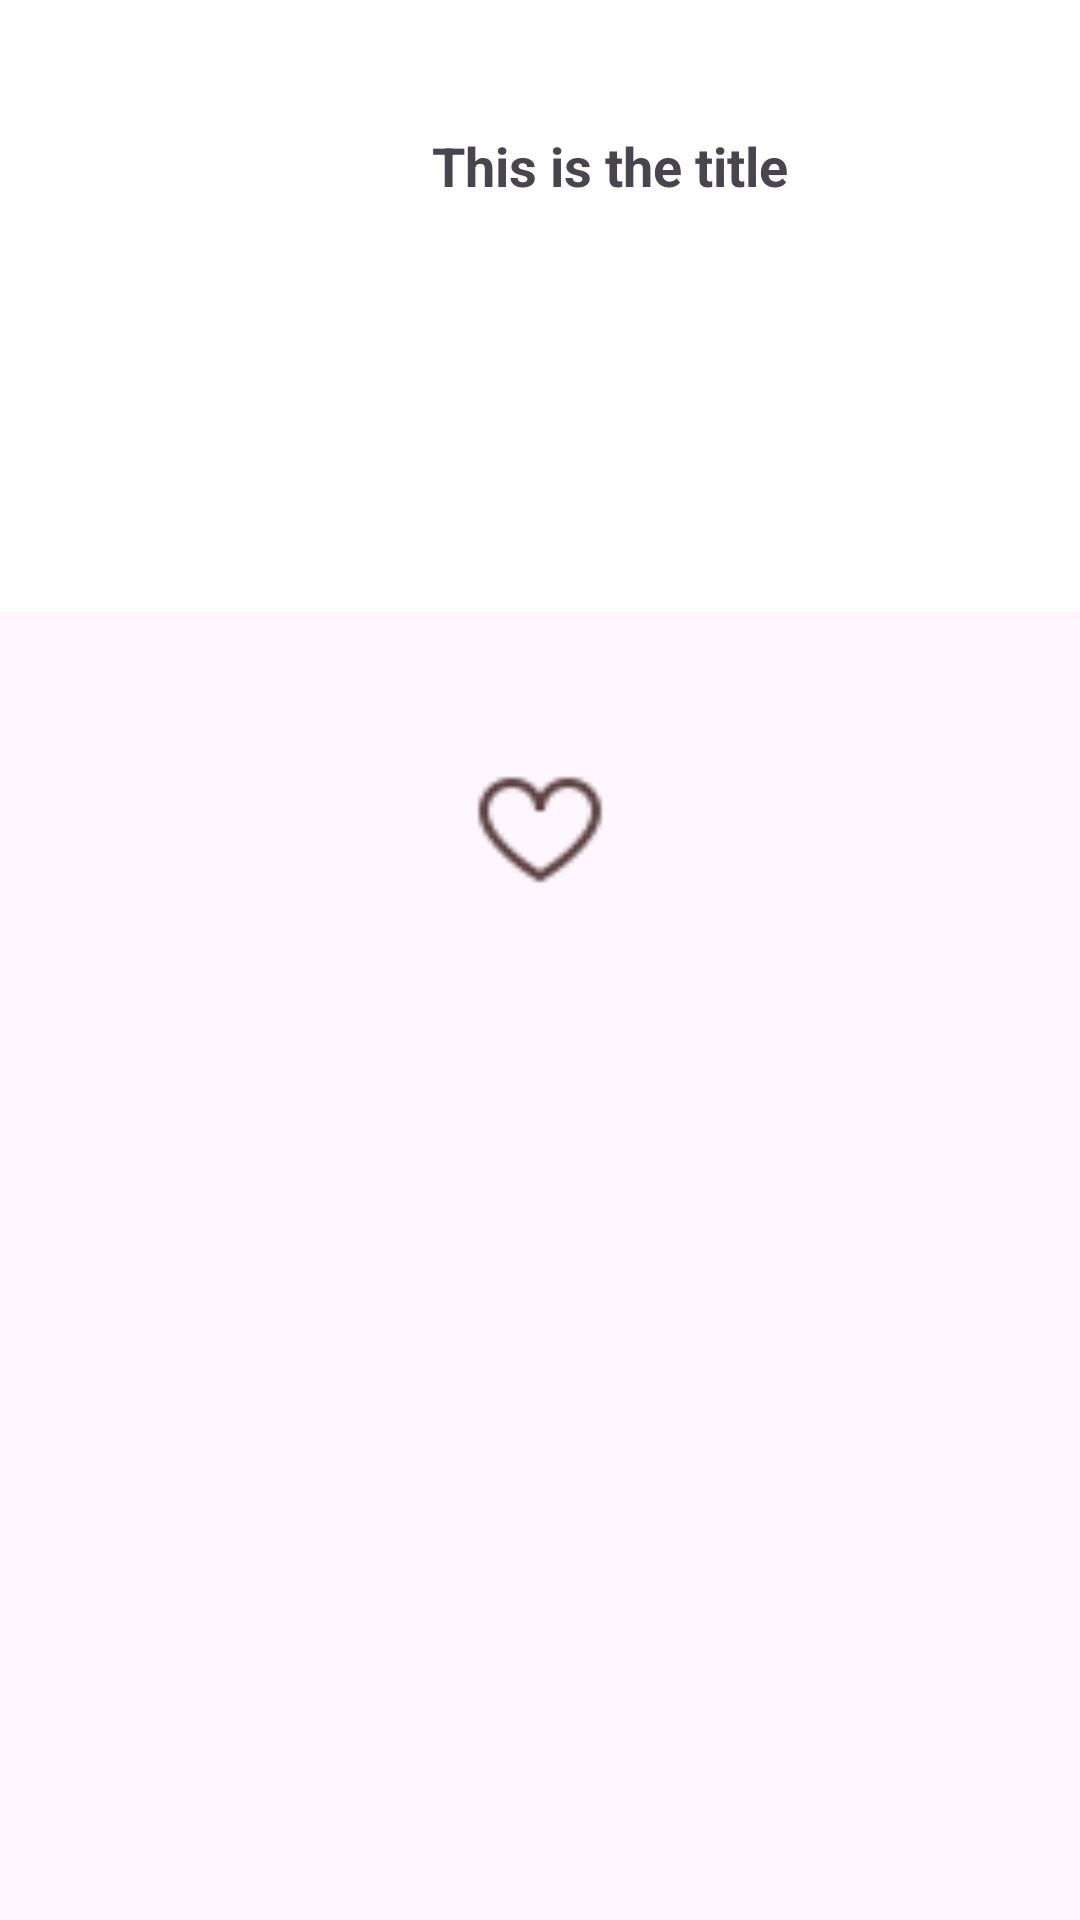

Icon bounding boxes for this 1080*1920 phone screenshot, format (x1, y1, x2, y2):
favorite: (477, 776, 603, 883)
